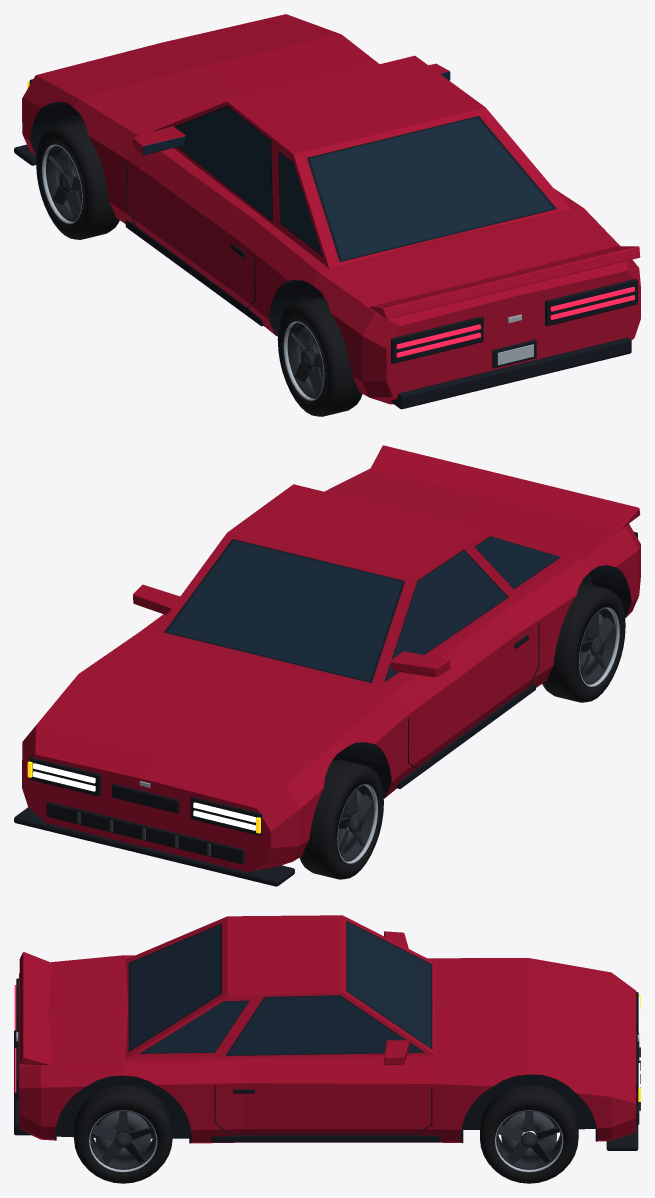
The model's file is ns-coupe-01.glb.
The picture shows the model from 3 angles, top to bottom: view 1: azimuth 30°, elevation 25°; view 2: azimuth 150°, elevation 25°; view 3: azimuth 270°, elevation 25°; orthographic projection. The views are drawn at different scales.
Visible parts, largest first — view 1: coachwork, greenhouse, tire-rear-left, tire-front-left, ducktail, rear-valance, tail-recess-left, tail-recess-right, sill-insert-left, mirror-left, five-spoke-front-left, five-spoke-rear-left (+2 smaller); view 2: coachwork, greenhouse, ducktail, tire-front-left, tire-rear-left, lower-intake, front-splitter, sill-insert-left, mirror-left, headlight-recess-right, front-grille, headlight-recess-left (+5 smaller); view 3: coachwork, greenhouse, tire-rear-right, tire-front-right, ducktail, sill-insert-right, brake-disc-front-right, brake-disc-rear-right, five-spoke-rear-right, five-spoke-front-right, rim-barrel-front-right, rim-barrel-rear-right (+5 smaller).
Part boxes in pixels (<box>): coachwork: <box>22,14,640,404</box>; greenhouse: <box>153,55,570,268</box>; tire-rear-left: <box>277,297,362,416</box>; tire-front-left: <box>36,120,119,239</box>; ducktail: <box>370,246,640,319</box>; rear-valance: <box>391,337,631,409</box>; tail-recess-left: <box>391,316,483,363</box>; tail-recess-right: <box>545,279,637,326</box>; sill-insert-left: <box>125,219,263,326</box>; mirror-left: <box>133,126,185,155</box>; five-spoke-front-left: <box>47,153,81,220</box>; five-spoke-rear-left: <box>289,330,323,397</box>; coachwork: <box>22,468,640,871</box>; greenhouse: <box>152,484,570,689</box>; ducktail: <box>370,445,640,530</box>; tire-front-left: <box>299,759,383,879</box>; tire-rear-left: <box>542,582,625,702</box>; lower-intake: <box>46,802,244,864</box>; front-splitter: <box>14,807,294,886</box>; sill-insert-left: <box>397,683,535,788</box>; mirror-left: <box>390,651,450,677</box>; headlight-recess-right: <box>29,757,100,796</box>; front-grille: <box>112,784,179,813</box>; headlight-recess-left: <box>190,796,262,835</box>; coachwork: <box>19,955,636,1143</box>; greenhouse: <box>125,915,435,1058</box>; tire-rear-right: <box>74,1084,172,1183</box>; tire-front-right: <box>480,1084,578,1183</box>; ducktail: <box>19,952,51,1064</box>; sill-insert-right: <box>211,1135,440,1142</box>; brake-disc-front-right: <box>501,1111,556,1162</box>; brake-disc-rear-right: <box>95,1111,150,1162</box>; five-spoke-rear-right: <box>91,1111,153,1165</box>; five-spoke-front-right: <box>497,1111,559,1165</box>; rim-barrel-front-right: <box>496,1111,562,1169</box>; rim-barrel-rear-right: <box>90,1111,156,1169</box>.
Size of the model in its own units: 2.18 by 1.38 by 4.57.
